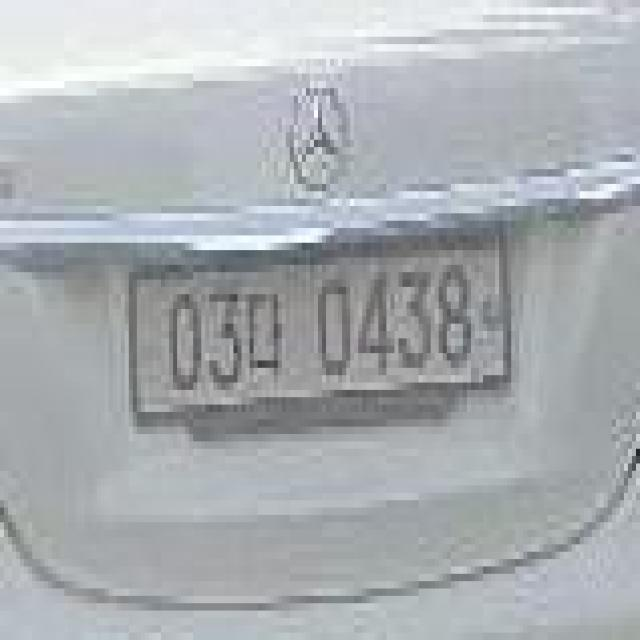illegal_plate: (121, 228, 520, 438)
